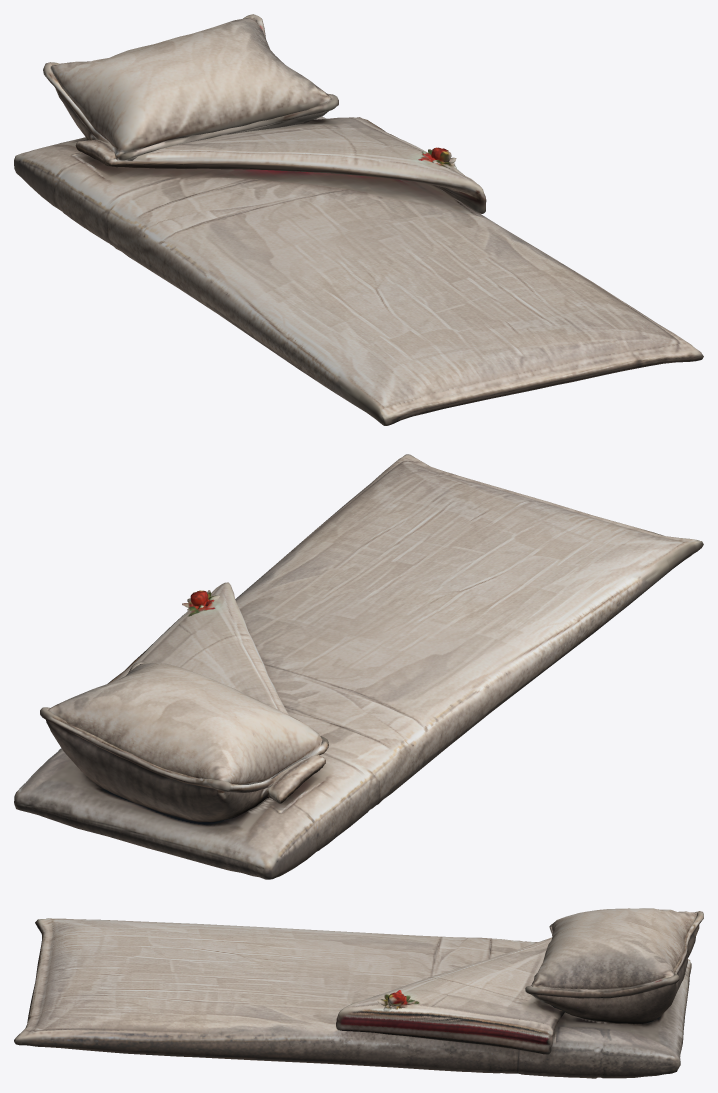
Rendered from act1_kit_v1_turned_down_coverlet.glb.
3 views of the same model, one above another, from view 1: azimuth 30°, elevation 25°; view 2: azimuth 150°, elevation 25°; view 3: azimuth 270°, elevation 25° (orthographic). The views are drawn at different scales.
Visible parts, largest first — view 1: act1_kit_v1_turned_down_coverlet; view 2: act1_kit_v1_turned_down_coverlet; view 3: act1_kit_v1_turned_down_coverlet.
Boxes of the visible parts, x1,y1,x2,y2 form: act1_kit_v1_turned_down_coverlet: [14, 14, 703, 425]; act1_kit_v1_turned_down_coverlet: [14, 454, 703, 879]; act1_kit_v1_turned_down_coverlet: [14, 908, 703, 1078].
Size of the model in its own units: 0.4198 by 0.186 by 1.
Materials: 1 (1 with a texture image).
